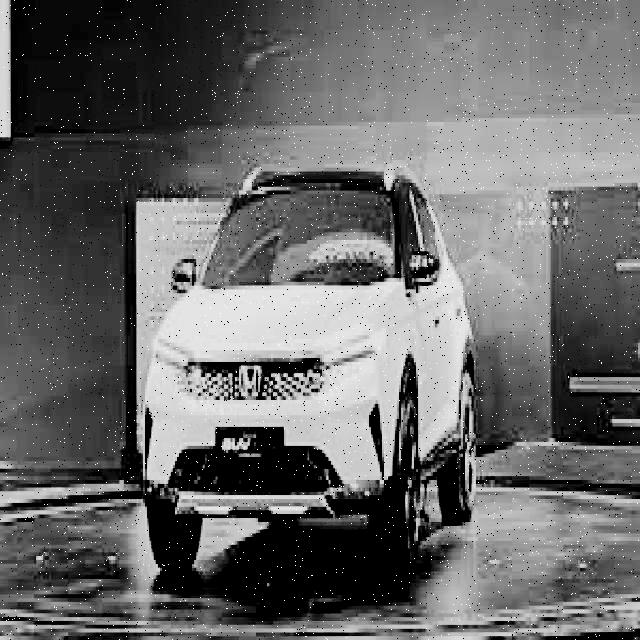Car: (138, 121, 517, 613)
